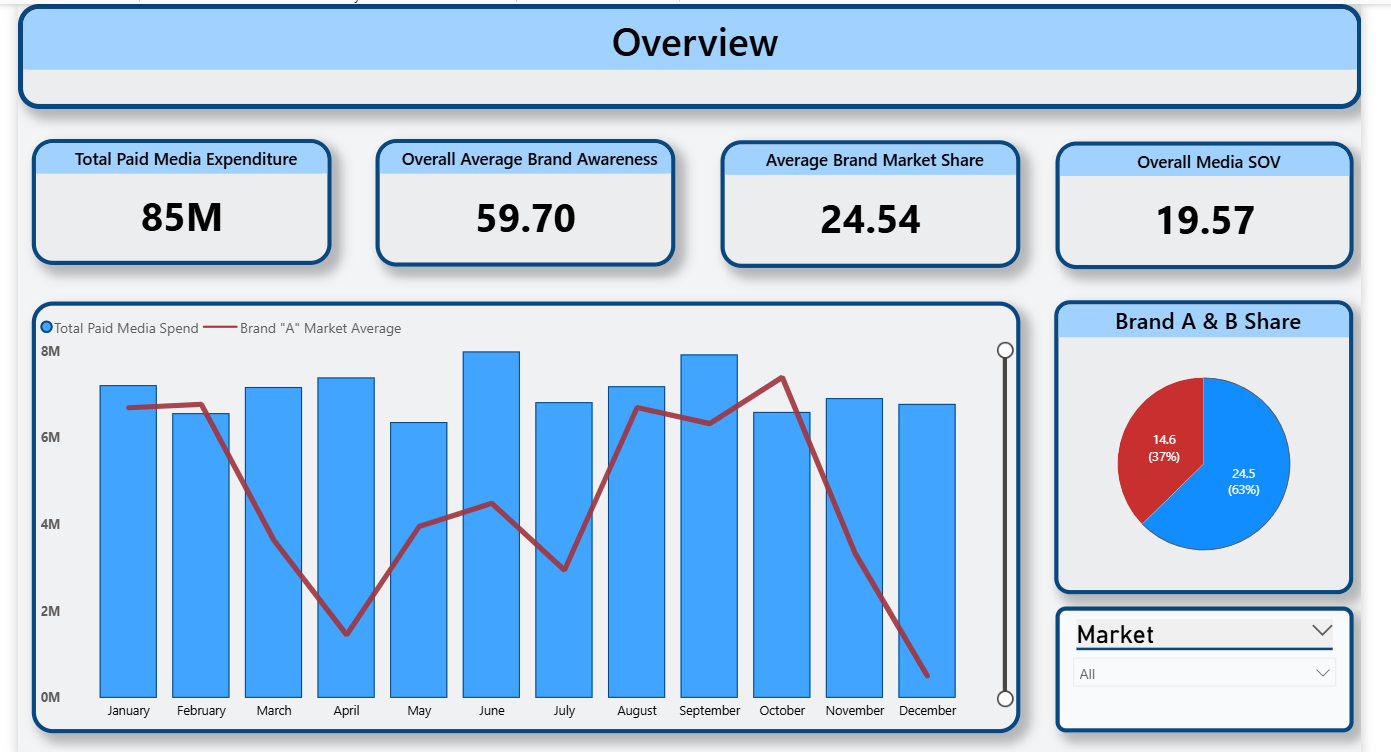

Layout of this report page (visuals, bound fields, positions):
{"tool":"powerbi","page":{"name":"Overview","canvas":[1280,720],"ordinal":0},"visuals":[{"type":"card","title":"Total Paid Media Expenditure","fields":{"Values":["Sum(Market Spend.PaidMediaSpend)"]},"box":[12.9,128.6,285.7,120],"z":0},{"type":"textbox","title":"Overview","box":[0,0,1280,100],"z":1000},{"type":"card","title":"Overall Average Brand Awareness","fields":{"Values":["Avg(Awareness.Awareness)"]},"box":[340.5,128.6,285.7,121.4],"z":2000},{"type":"card","title":"Overall Media SOV","fields":{"Values":["Avg(Media Share.MediaShareOfVoice)"]},"box":[988.6,131.4,284.3,121.4],"z":3000},{"type":"card","title":"Average Brand Market Share","fields":{"Values":["Avg(Media Share.BrandAMarketShare)"]},"box":[668.6,130,285.7,121.4],"z":4000},{"type":"lineClusteredColumnComboChart","fields":{"Y":["Sum(Market Spend.PaidMediaSpend)"],"Y2":["Avg(Media Share.BrandAMarketShare)"],"Category":["Date_Dimension.MonthName"]},"box":[12.9,282.9,941.4,411.4],"z":5000},{"type":"slicer","fields":{"Values":["Market_Dimension.Market"]},"box":[988,574.3,284.3,120],"z":6000},{"type":"pieChart","title":"Brand A & B Share","fields":{"Y":["Avg(Media Share.BrandAMarketShare)","Avg(Media Share.BrandBMarketShare)"]},"box":[987.5,282.5,285,280],"z":7000}]}

Visuals, with their boxes in screenshot pixels (x1, y1, x2, y2):
"Total Paid Media Expenditure" card: rect(46, 136, 341, 260)
"Overview" textbox: rect(33, 4, 1354, 107)
"Overall Average Brand Awareness" card: rect(384, 136, 679, 262)
"Overall Media SOV" card: rect(1053, 139, 1346, 265)
"Average Brand Market Share" card: rect(723, 138, 1017, 263)
lineClusteredColumnComboChart - Sum(Market Spend.PaidMediaSpend) x Avg(Media Share.BrandAMarketShare): rect(46, 296, 1017, 720)
slicer - Market_Dimension.Market: rect(1052, 596, 1346, 720)
"Brand A & B Share" pieChart: rect(1052, 295, 1346, 584)
